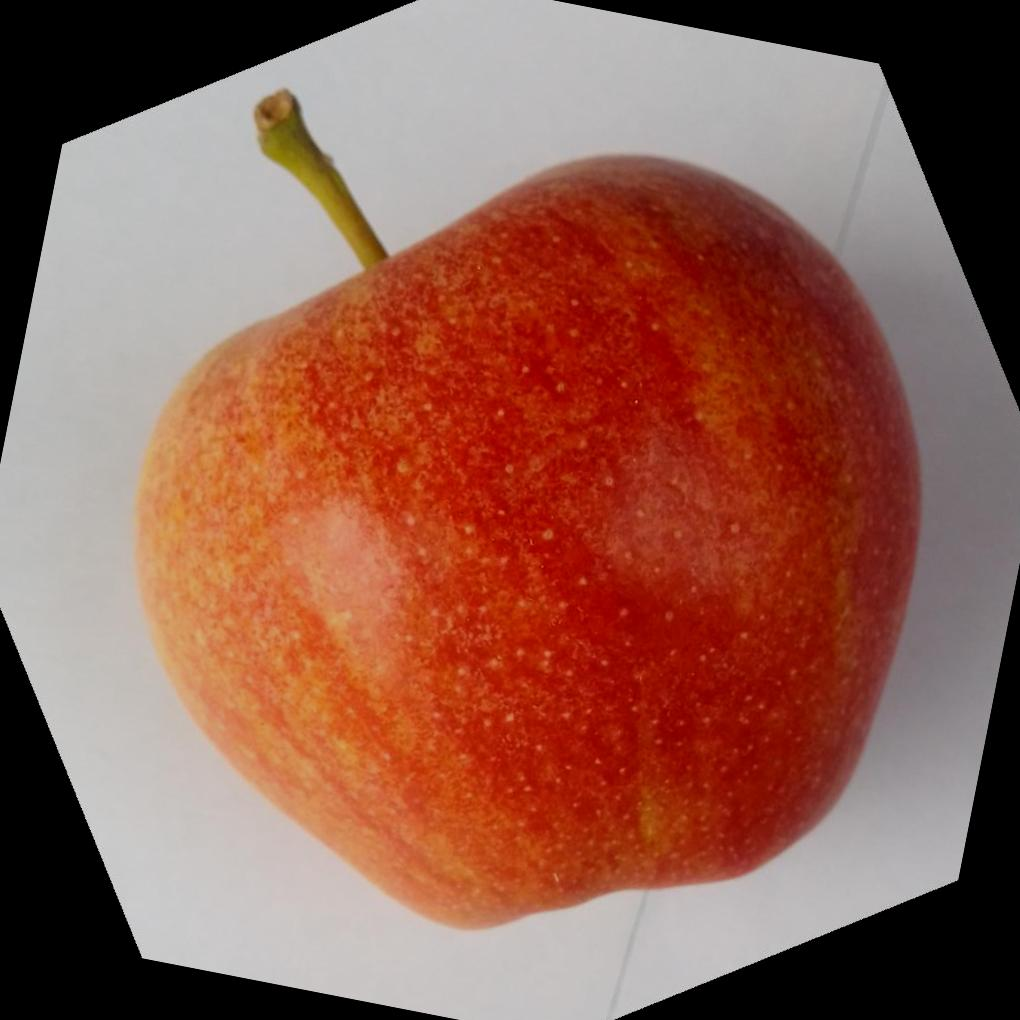FreshGuava: (133, 152, 927, 934)
